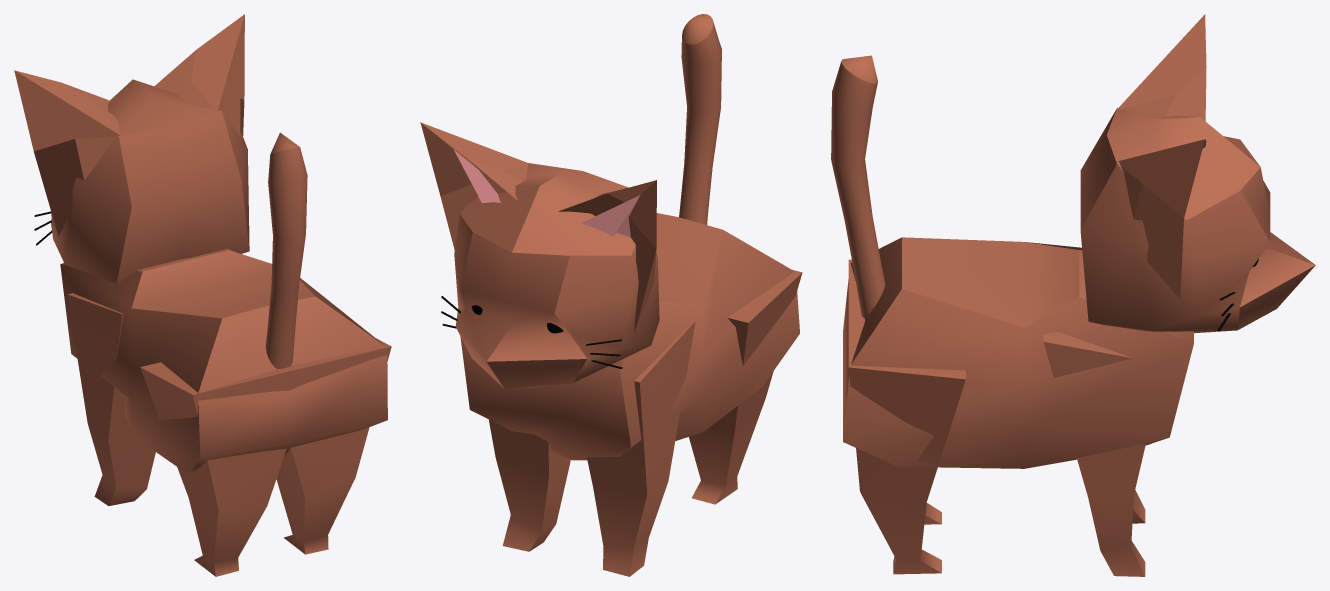
Rendered from cat_v2.fbx.
3 views of the same model, side by side, from view 1: azimuth 30°, elevation 25°; view 2: azimuth 150°, elevation 25°; view 3: azimuth 270°, elevation 25° (orthographic). The views are drawn at different scales.
Parts seen in each view (by area): view 1: body, head, leg2, leg1, pPyramid4, leg5, tail, pPyramid5; view 2: head, body, leg1, leg2, tail, leg4, pPyramid5, pPyramid4; view 3: body, head, leg5, tail, leg4, pPyramid5, pPyramid4, leg2.
Part boxes in pixels (x1=…): body: x1=60, y1=248, x2=387, y2=474; head: x1=51, y1=79, x2=249, y2=283; leg2: x1=140, y1=362, x2=314, y2=576; leg1: x1=67, y1=293, x2=155, y2=505; pPyramid4: x1=14, y1=70, x2=119, y2=236; leg5: x1=264, y1=338, x2=391, y2=554; tail: x1=265, y1=132, x2=307, y2=369; pPyramid5: x1=154, y1=14, x2=244, y2=135; head: x1=454, y1=163, x2=659, y2=388; body: x1=460, y1=213, x2=799, y2=460; leg1: x1=587, y1=320, x2=695, y2=576; leg2: x1=689, y1=270, x2=802, y2=504; tail: x1=679, y1=14, x2=721, y2=224; leg4: x1=488, y1=419, x2=570, y2=551; pPyramid5: x1=420, y1=122, x2=528, y2=249; pPyramid4: x1=558, y1=180, x2=656, y2=333; body: x1=843, y1=237, x2=1193, y2=468; head: x1=1080, y1=108, x2=1315, y2=333; leg5: x1=848, y1=311, x2=965, y2=574; tail: x1=831, y1=55, x2=885, y2=318; leg4: x1=1043, y1=332, x2=1145, y2=576; pPyramid5: x1=1118, y1=139, x2=1206, y2=299; pPyramid4: x1=1118, y1=14, x2=1206, y2=120; leg2: x1=848, y1=259, x2=941, y2=524.
Bounding box in the file's own units: 36.86 × 67.11 × 60.34.
